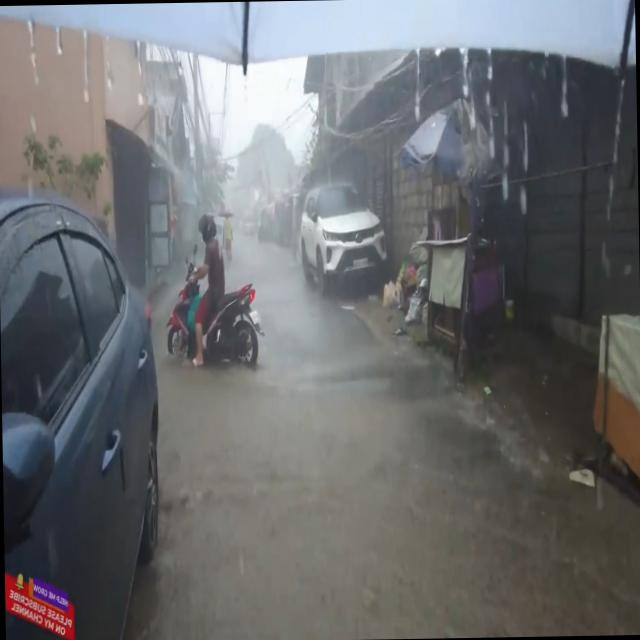full: (196, 212, 216, 244)
